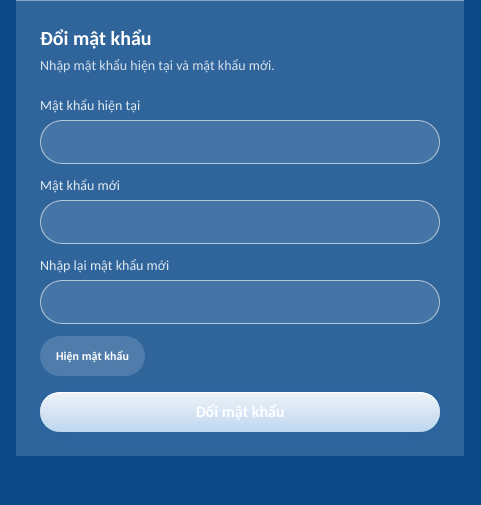
ChangePasswordPage — gọi API (P3-T7) › EF báo mật khẩu cũ sai → hiện thông điệp, vẫn ở form
Type "mat-khau-sai" into the password field labelled "Mật khẩu hiện tại" at [240, 142], box [40, 120, 440, 164]
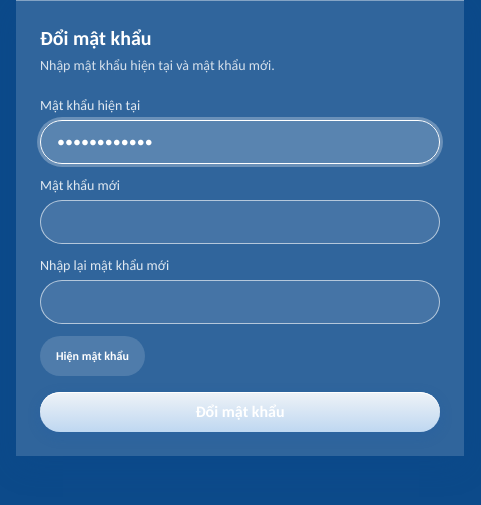
Type "mat-khau-moi" into the password field labelled "Mật khẩu mới" at [240, 222], box [40, 200, 440, 244]
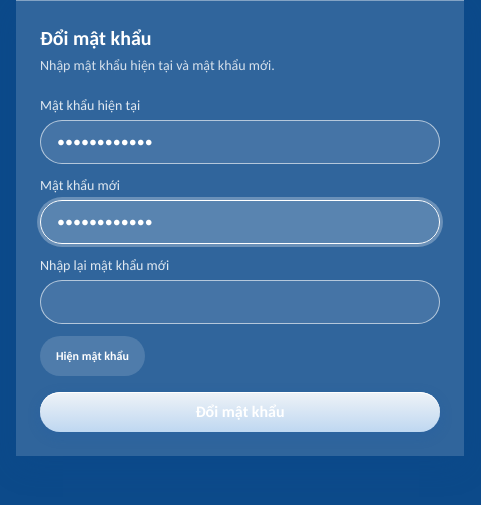
Type "mat-khau-moi" into the password field labelled "Nhập lại mật khẩu mới" at [240, 302], box [40, 280, 440, 324]
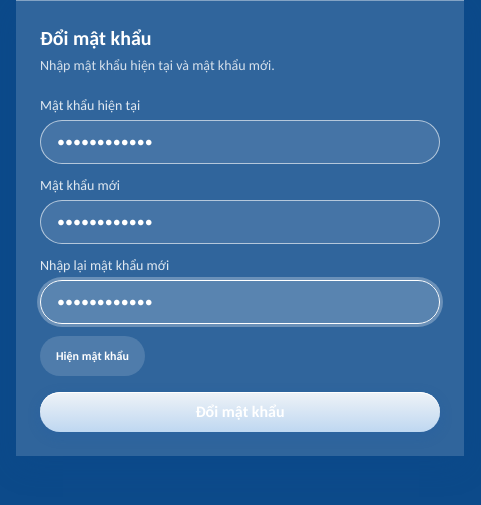
Click the button "Đổi mật khẩu" at [240, 412], box [40, 392, 440, 432]
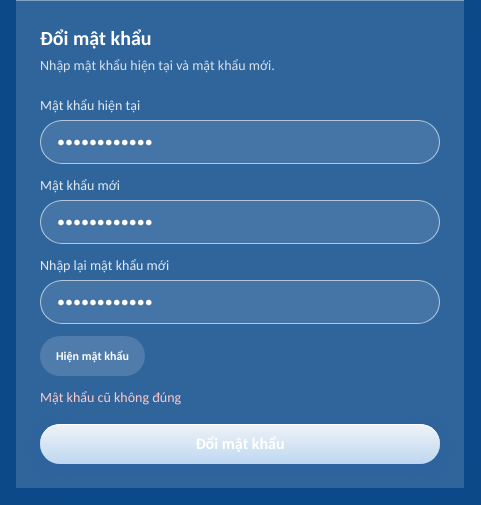
Expected: the message reads "Mật khẩu cũ không đúng", [40, 389, 181, 406]
